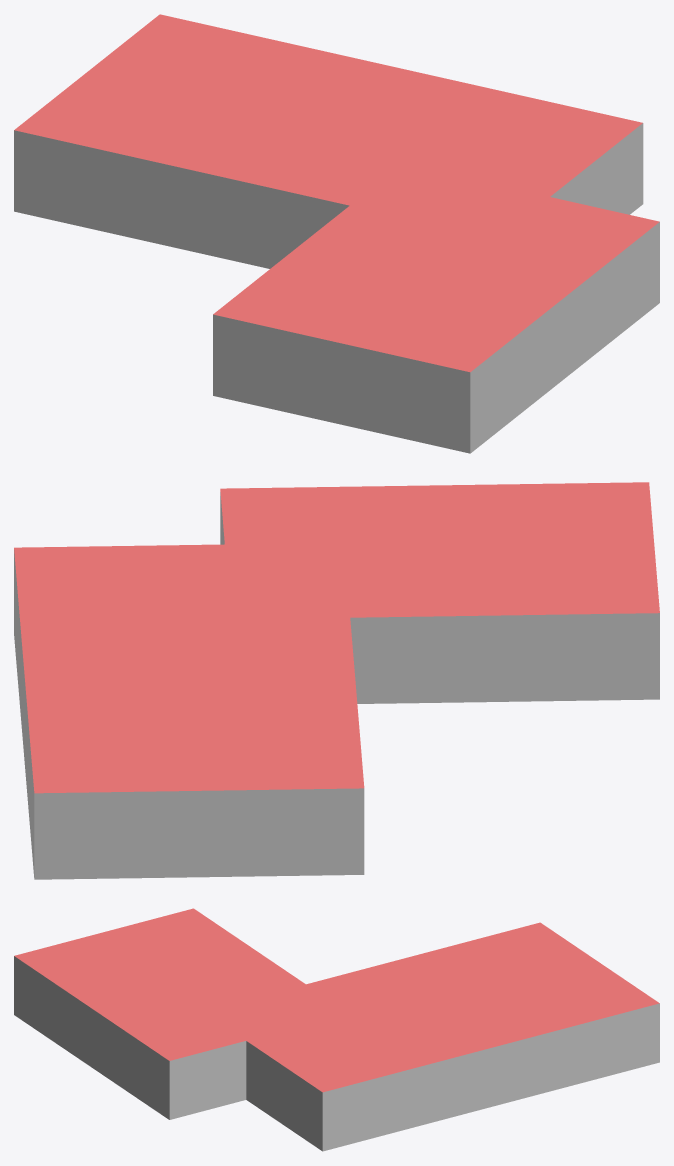
3 renders of one model, top to bottom at view 1: azimuth 30°, elevation 25°; view 2: azimuth 150°, elevation 25°; view 3: azimuth 270°, elevation 25°, orthographic. The views are drawn at different scales.
Visible parts, largest first — view 1: Z_UP; view 2: Z_UP; view 3: Z_UP.
Part boxes in pixels (<box>): Z_UP: <box>14,14,659,453</box>; Z_UP: <box>14,482,659,879</box>; Z_UP: <box>14,908,659,1151</box>.
Size of the model in its own units: 26.72 by 4 by 39.63.
